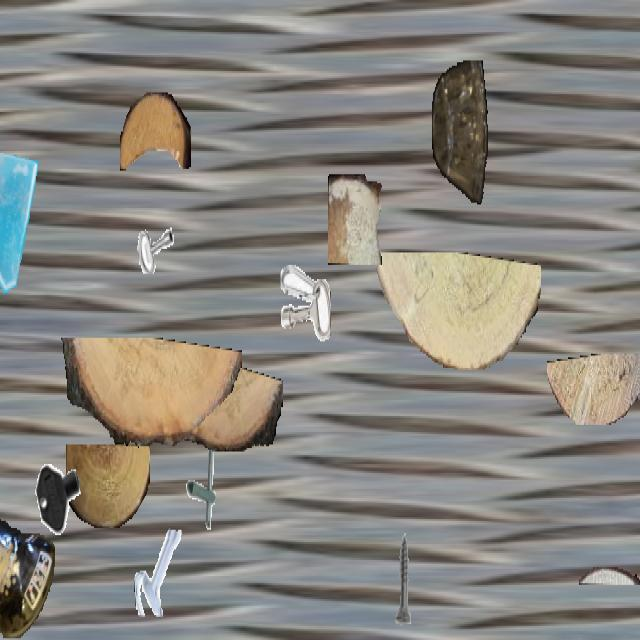glass: (0, 137, 51, 297)
metal: (376, 530, 430, 626), (124, 176, 178, 272), (178, 439, 230, 532), (33, 446, 85, 539), (280, 262, 330, 351), (134, 528, 184, 617)
plastic: (0, 439, 54, 638), (432, 60, 488, 206)
wood: (58, 338, 242, 448), (370, 252, 540, 370), (138, 359, 282, 452), (66, 444, 150, 526), (547, 354, 640, 425), (120, 92, 190, 170), (328, 174, 382, 263), (579, 567, 640, 585)
